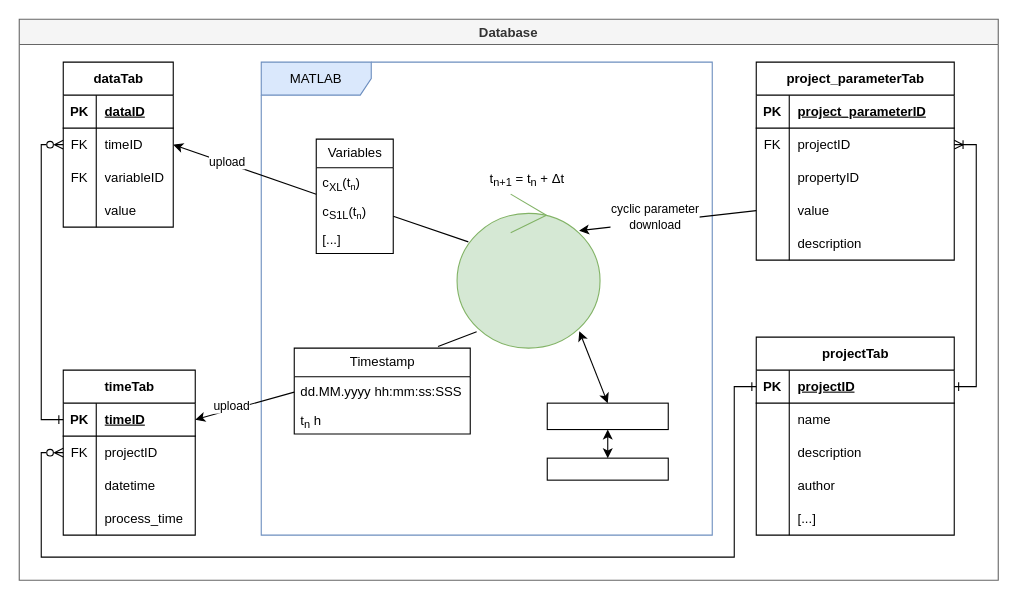
This 1018x600 diagram has some shape labels left out. Here are the shapes that lost their labels. From the top down, the centre of each, then its label:
At (528,270): "TimerFnc".
At (607,416): "CalculationFcn".
At (607,468): "Pichiapastoris.m".
